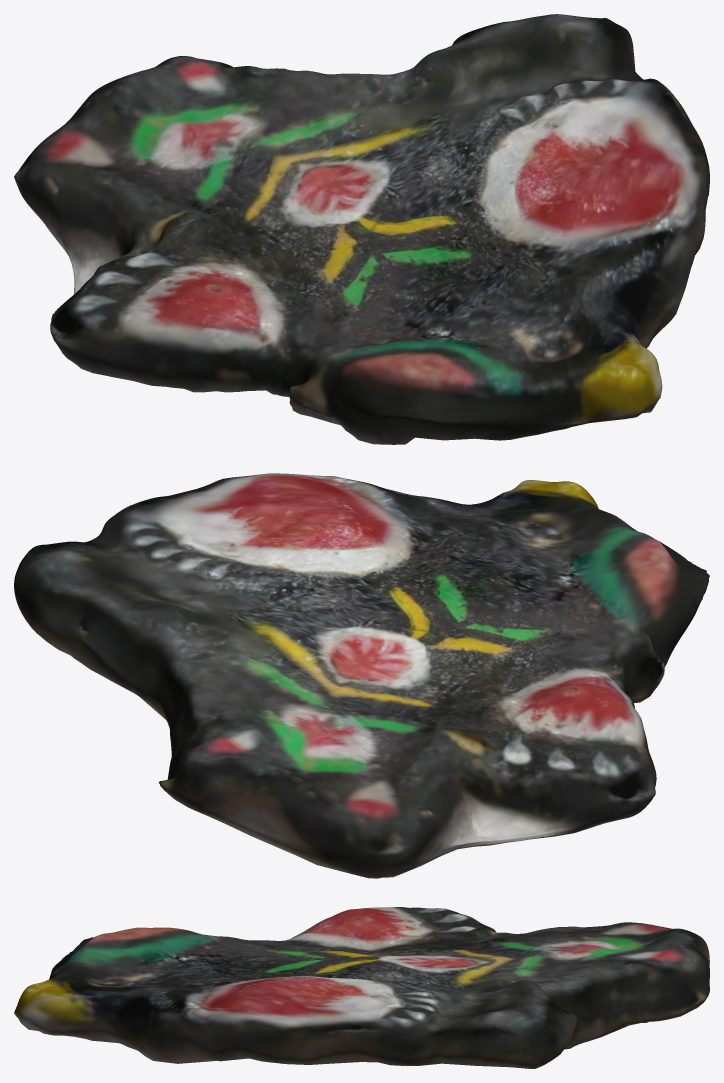
3 views of the same model, one above another, from view 1: azimuth 30°, elevation 25°; view 2: azimuth 150°, elevation 25°; view 3: azimuth 270°, elevation 25° (orthographic). The views are drawn at different scales.
Size of the model in its own units: 0.5368 by 0.1537 by 0.658.
Materials: 1 (1 with a texture image).
